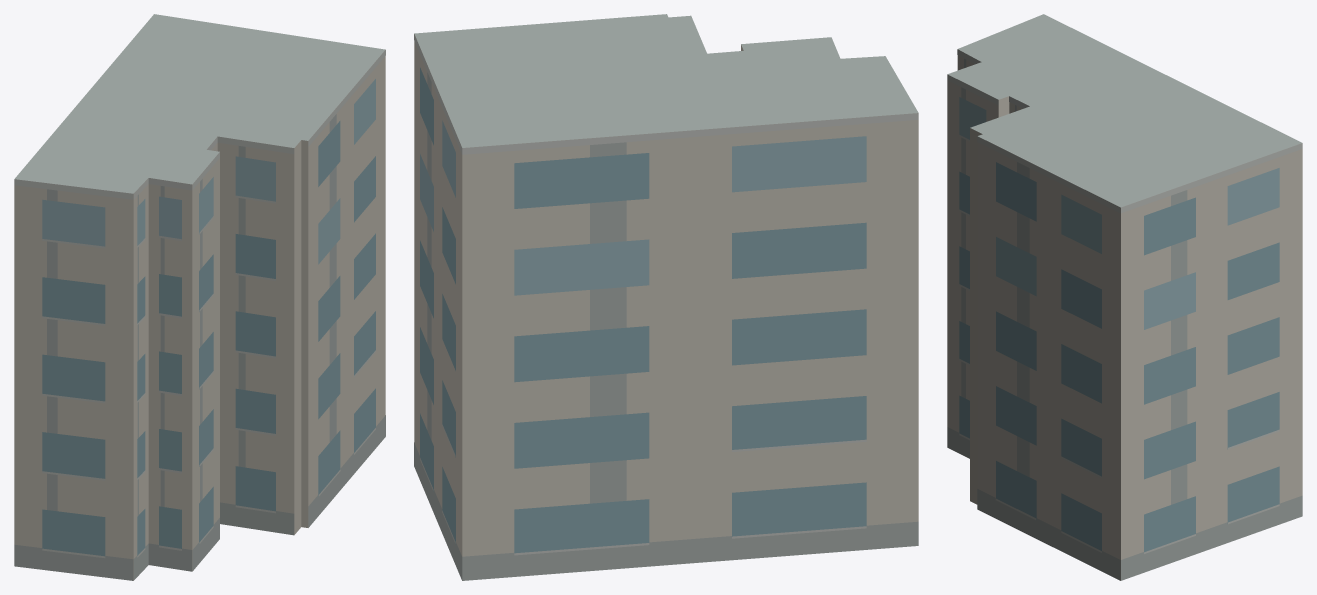
Rendered from survey-upis-32889569.glb.
The picture shows the model from 3 angles, left to right: view 1: azimuth 30°, elevation 25°; view 2: azimuth 150°, elevation 25°; view 3: azimuth 270°, elevation 25°; orthographic projection. The views are drawn at different scales.
Visible parts, largest first — view 1: survey-upis-32889569.tmp; view 2: survey-upis-32889569.tmp; view 3: survey-upis-32889569.tmp.
Boxes of the visible parts, left/top/right/bottom form: survey-upis-32889569.tmp: left=14, top=14, right=385, bottom=580; survey-upis-32889569.tmp: left=414, top=14, right=918, bottom=580; survey-upis-32889569.tmp: left=947, top=14, right=1302, bottom=580.
Bounding box in the file's own units: 17.13 × 15.4 × 13.29.
